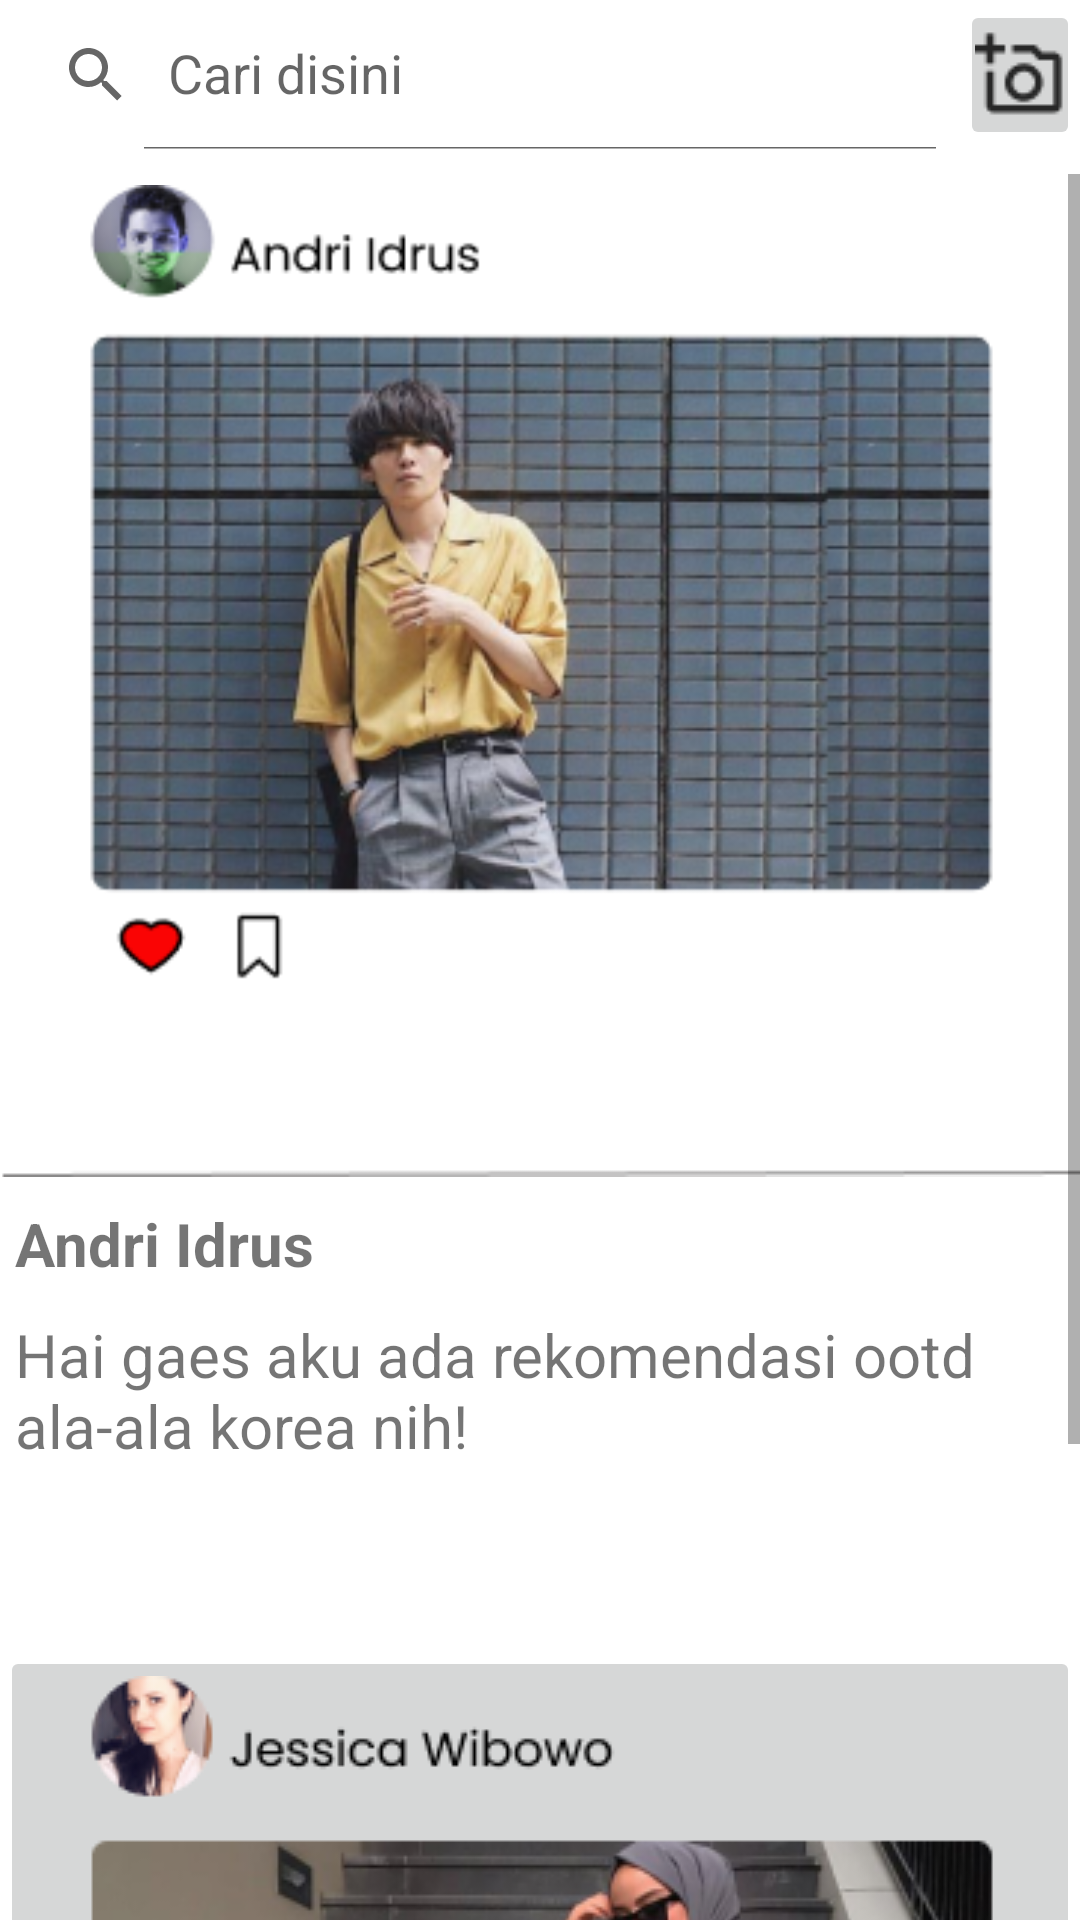

Icon click points for this 1080x1920 phone screenshot, format [x,y]:
upimage: [1020,75]
